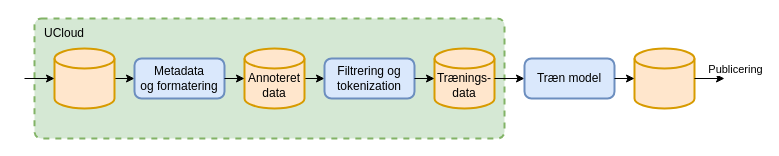
Image size: 779x156. Some labels were removed from this diagram. Each missing label, with the centre of its shape:
Model checkpoint: (x=664, y=78)
Rå data: (x=84, y=78)
